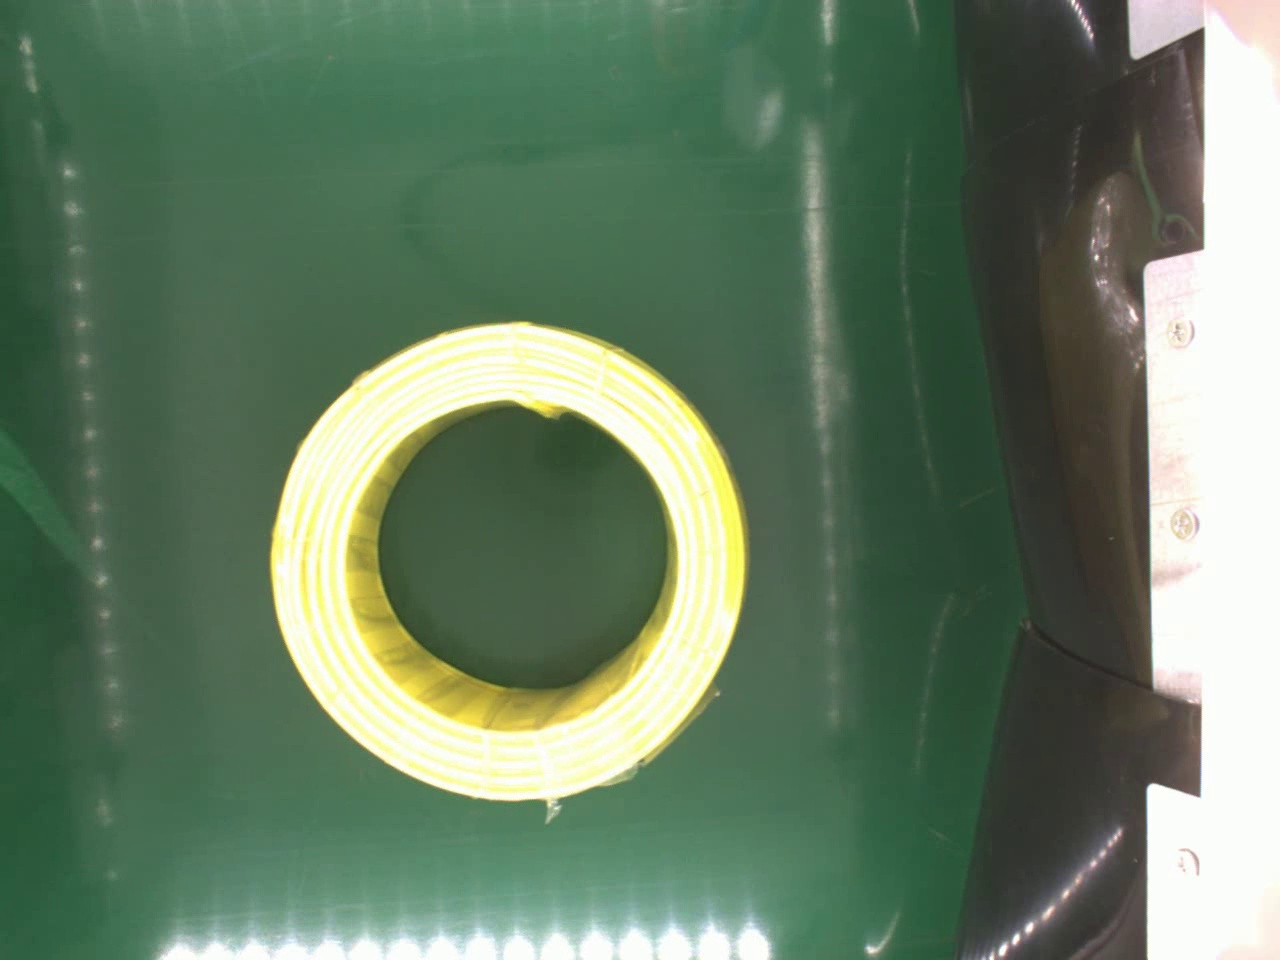yellow: (263, 317, 752, 802)
